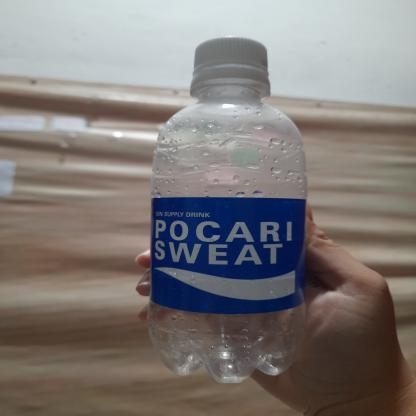bottle: (140, 31, 315, 384)
